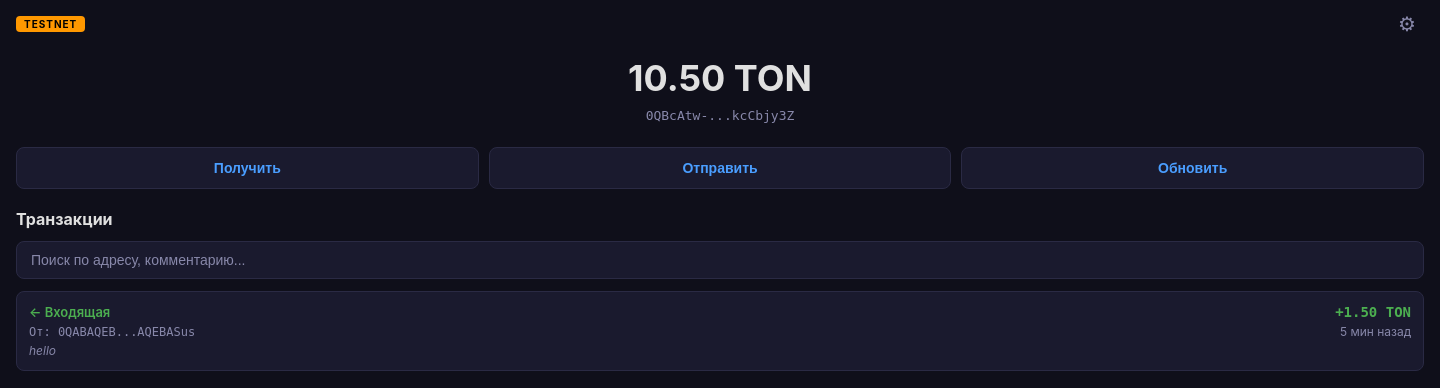
Test: Dashboard › shows "Ничего не найдено" when search has no results
In the field with placeholder "Поиск по адресу, комментарию...": (720, 260) 16,241 -> 1424,279, type "nonexistent"
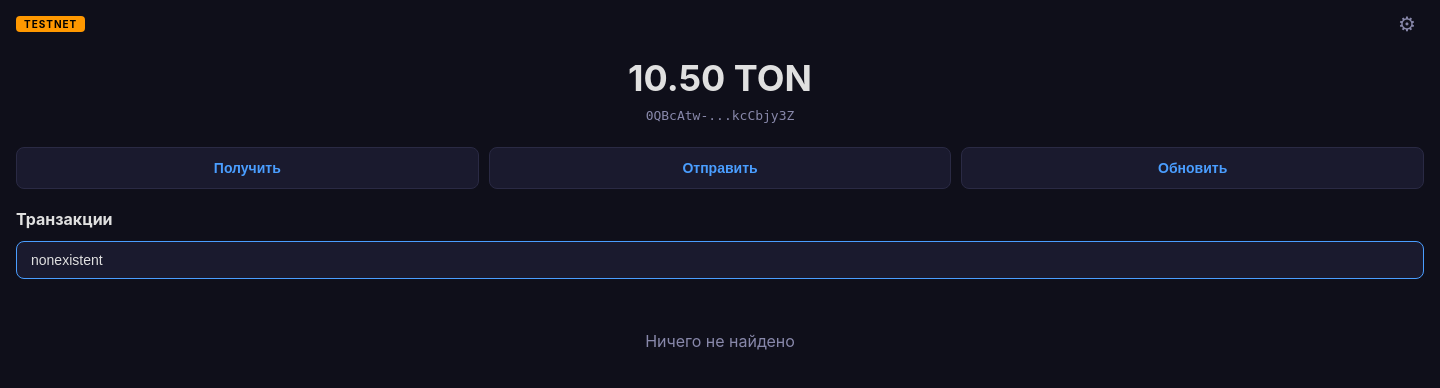
Result: the text "Ничего не найдено" is shown at 645,331 -> 795,351
